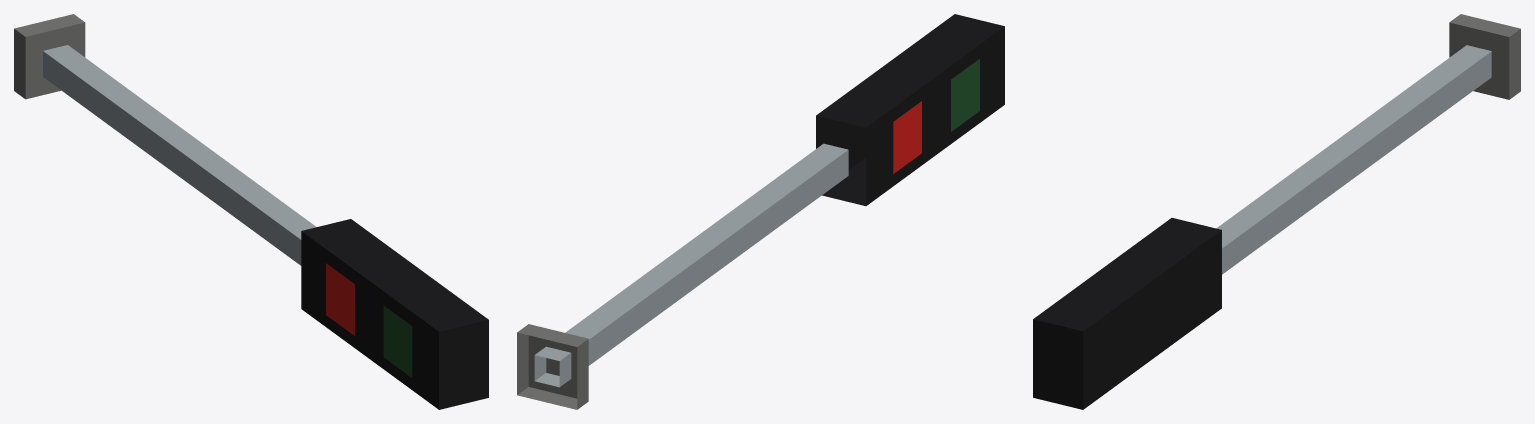
Rendered from red.glb.
3 renders of one model, left to right at view 1: azimuth 30°, elevation 25°; view 2: azimuth 150°, elevation 25°; view 3: azimuth 330°, elevation 25°, orthographic.
Visible parts, largest first — view 1: signal_electric_block_red; view 2: signal_electric_block_red; view 3: signal_electric_block_red.
Boxes of the visible parts, x1,y1,x2,y2 form: signal_electric_block_red: (14, 14, 488, 409); signal_electric_block_red: (517, 14, 1004, 409); signal_electric_block_red: (1033, 14, 1520, 409).
Bounding box in the file's own units: 1.22 × 1.5 × 14.8.
